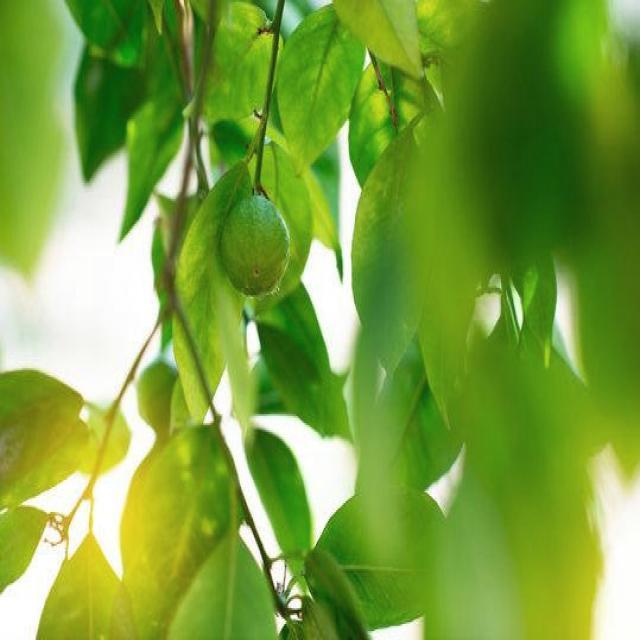Jeruk Belum Matang: (226, 197, 291, 299)
